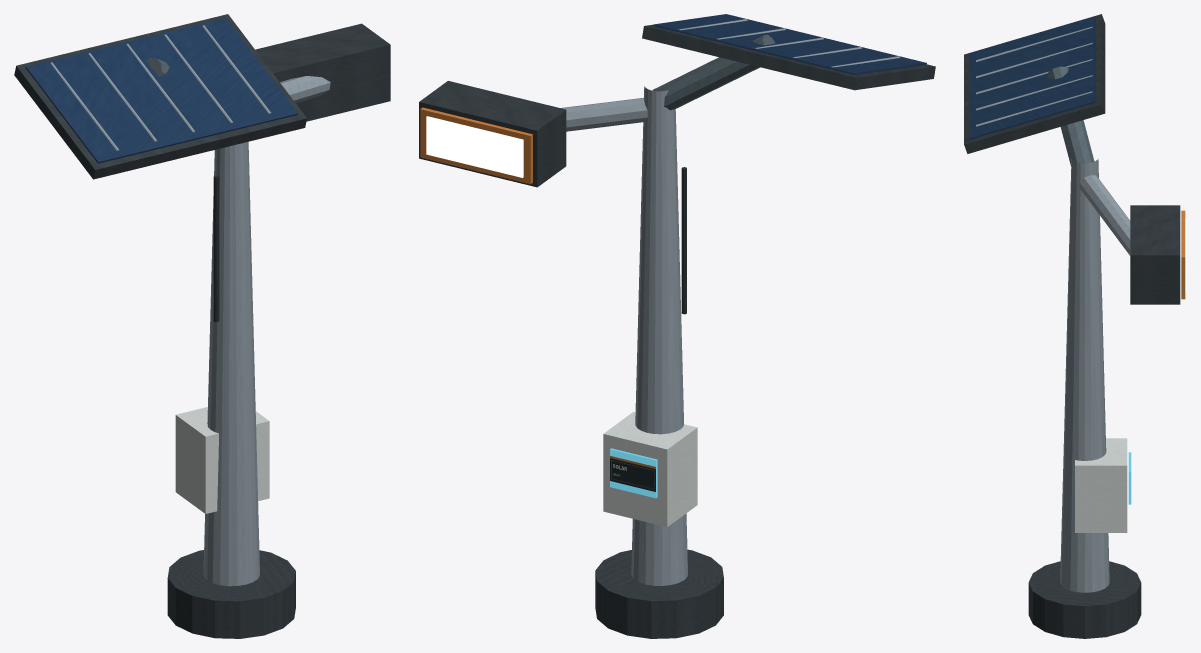
The model's file is solar_floodlight.glb.
The picture shows the model from 3 angles, left to right: view 1: azimuth 30°, elevation 25°; view 2: azimuth 150°, elevation 25°; view 3: azimuth 270°, elevation 25°; orthographic projection. The views are drawn at different scales.
Visible parts, largest first — view 1: solar_cells_solar, support_post_steel, foundation_graphite, lamp_case_graphite, panel_frame_graphite, battery_module_ceramic, solar_cell_lines_steel, charging_cable_rubber, lamp_arm_steel; view 2: support_post_steel, foundation_graphite, battery_module_ceramic, lamp_case_graphite, solar_cells_solar, panel_frame_graphite, lamp_diffuser_lamp, solar_support_metal_dark, lamp_rim_orange, lamp_arm_steel, solar_label_LABEL_SOLAR, charging_cable_rubber (+2 smaller); view 3: support_post_steel, solar_cells_solar, foundation_graphite, lamp_case_graphite, battery_module_ceramic, panel_frame_graphite, lamp_arm_steel, solar_cell_lines_steel, solar_support_metal_dark, lamp_rim_orange.
Boxes of the visible parts, <box> form: solar_cells_solar: <box>25,18,298,163</box>; support_post_steel: <box>203,141,259,586</box>; foundation_graphite: <box>167,550,295,638</box>; lamp_case_graphite: <box>255,23,390,121</box>; panel_frame_graphite: <box>14,14,306,179</box>; battery_module_ceramic: <box>175,407,269,513</box>; solar_cell_lines_steel: <box>50,25,271,151</box>; charging_cable_rubber: <box>213,175,219,321</box>; lamp_arm_steel: <box>280,76,330,103</box>; support_post_steel: <box>631,86,687,585</box>; foundation_graphite: <box>595,549,723,638</box>; battery_module_ceramic: <box>603,412,697,527</box>; lamp_case_graphite: <box>419,81,566,187</box>; solar_cells_solar: <box>653,14,926,74</box>; panel_frame_graphite: <box>642,24,935,90</box>; lamp_diffuser_lamp: <box>426,116,523,177</box>; solar_support_metal_dark: <box>652,34,775,110</box>; lamp_rim_orange: <box>420,107,532,184</box>; lamp_arm_steel: <box>560,97,647,131</box>; solar_label_LABEL_SOLAR: <box>610,456,655,491</box>; charging_cable_rubber: <box>681,167,686,314</box>; support_post_steel: <box>1060,158,1109,592</box>; solar_cells_solar: <box>969,16,1095,139</box>; foundation_graphite: <box>1028,561,1141,638</box>; lamp_case_graphite: <box>1130,205,1180,304</box>; battery_module_ceramic: <box>1075,438,1127,532</box>; panel_frame_graphite: <box>964,14,1105,153</box>; lamp_arm_steel: <box>1079,175,1130,255</box>; solar_cell_lines_steel: <box>976,26,1092,126</box>; solar_support_metal_dark: <box>1047,66,1094,166</box>; lamp_rim_orange: <box>1181,210,1185,299</box>.
Size of the model in its own units: 1.95 by 2.82 by 1.11.
Materials: 10 (10 with a texture image).
